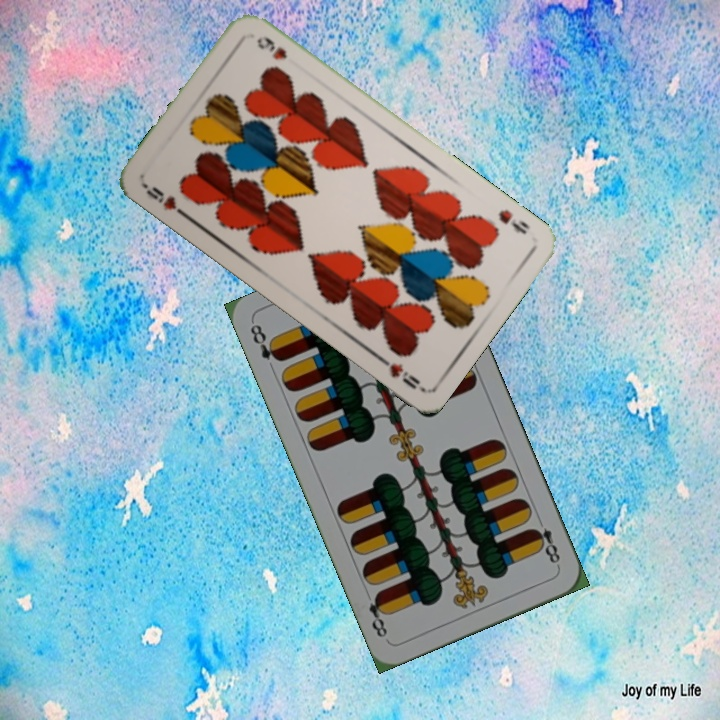E8: (528, 513, 563, 570), (246, 320, 284, 364)
H9: (139, 180, 191, 221), (494, 205, 533, 238)
